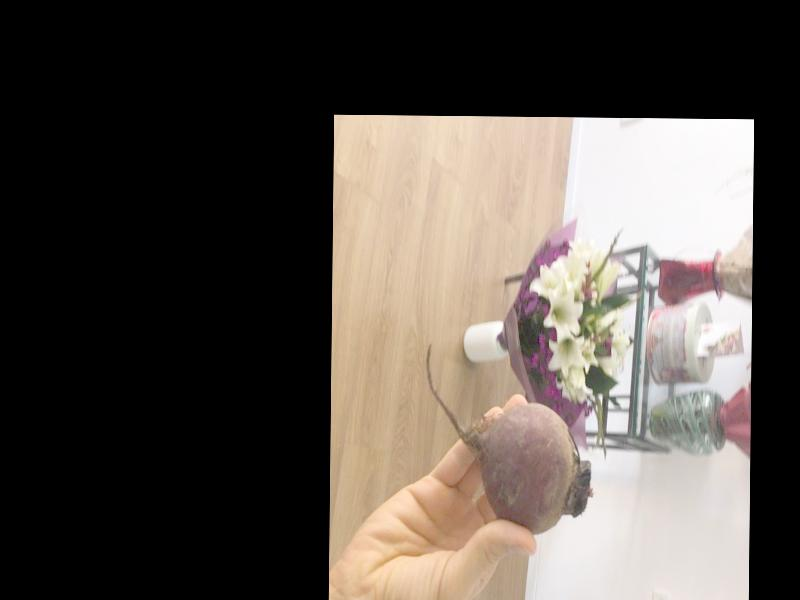Beet: (424, 340, 593, 534)
